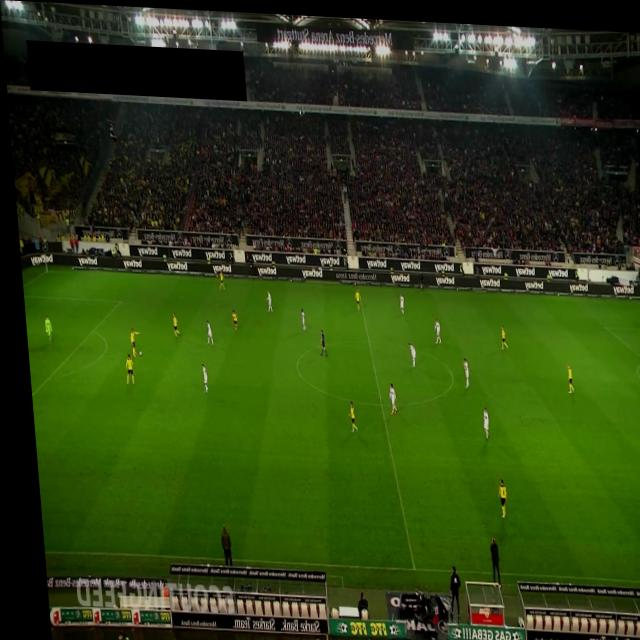goalkeeper: (39, 314, 47, 344)
player: (489, 472, 501, 514), (124, 326, 136, 356), (118, 352, 129, 384), (381, 379, 391, 411), (341, 397, 351, 429), (476, 401, 484, 436), (560, 356, 568, 388), (456, 352, 464, 384), (167, 310, 176, 336), (199, 318, 208, 343), (195, 361, 202, 391), (428, 314, 436, 340), (403, 338, 411, 364), (495, 319, 503, 345), (349, 285, 357, 309), (226, 306, 234, 329), (261, 287, 268, 310), (394, 288, 400, 311), (214, 270, 221, 288), (296, 304, 301, 328)
referee: (313, 326, 321, 354), (413, 264, 420, 286)
